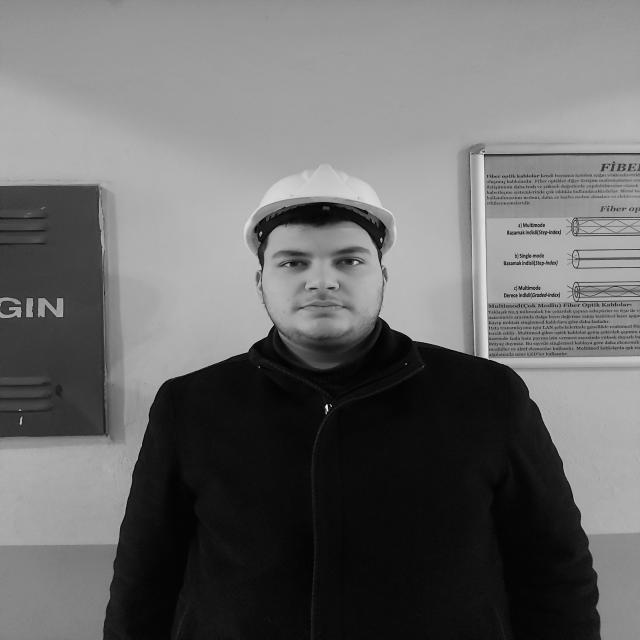safety_helmet: (244, 168, 397, 270)
